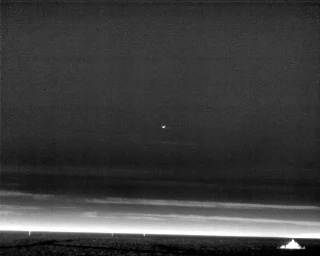BIRD: (160, 123, 168, 131)
